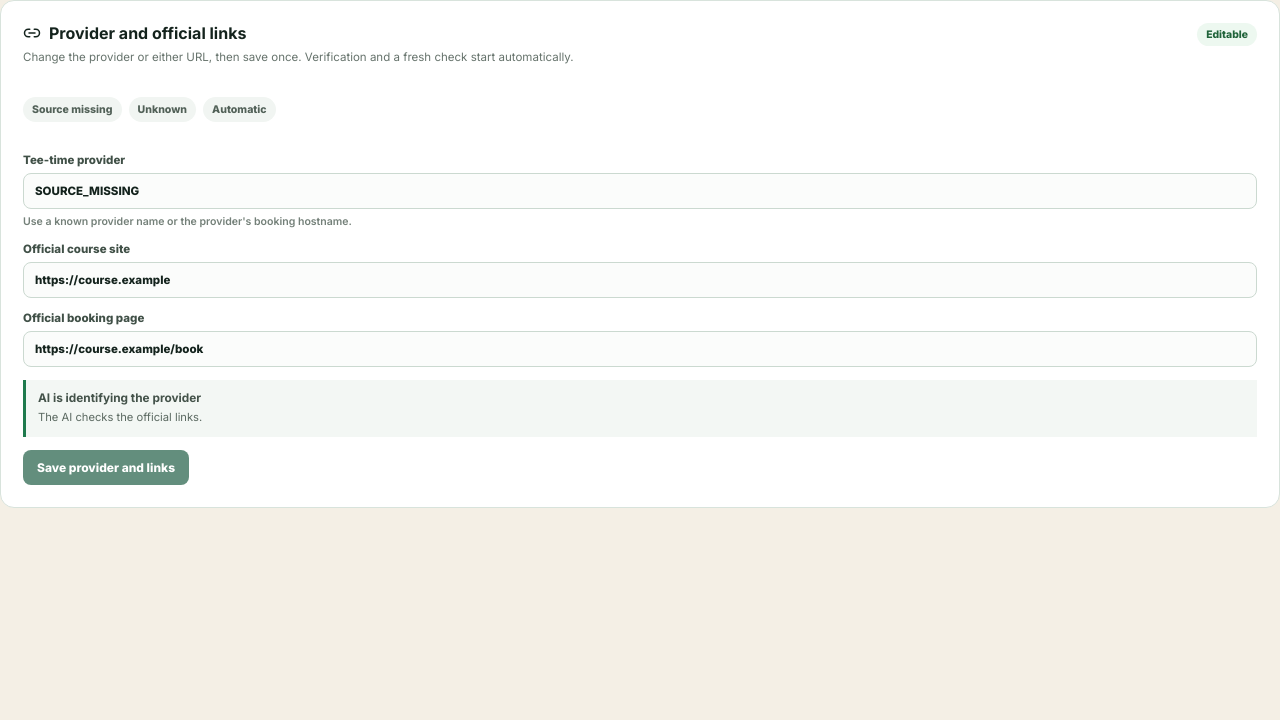
Test: operator course controls › keeps the provider editable and enables verification when it changes
The width and height of the screenshot is (1280, 720).
Replace the text in the field labelled "Tee-time provider" with "FOREUP" at (640, 191), box [23, 173, 1257, 209]
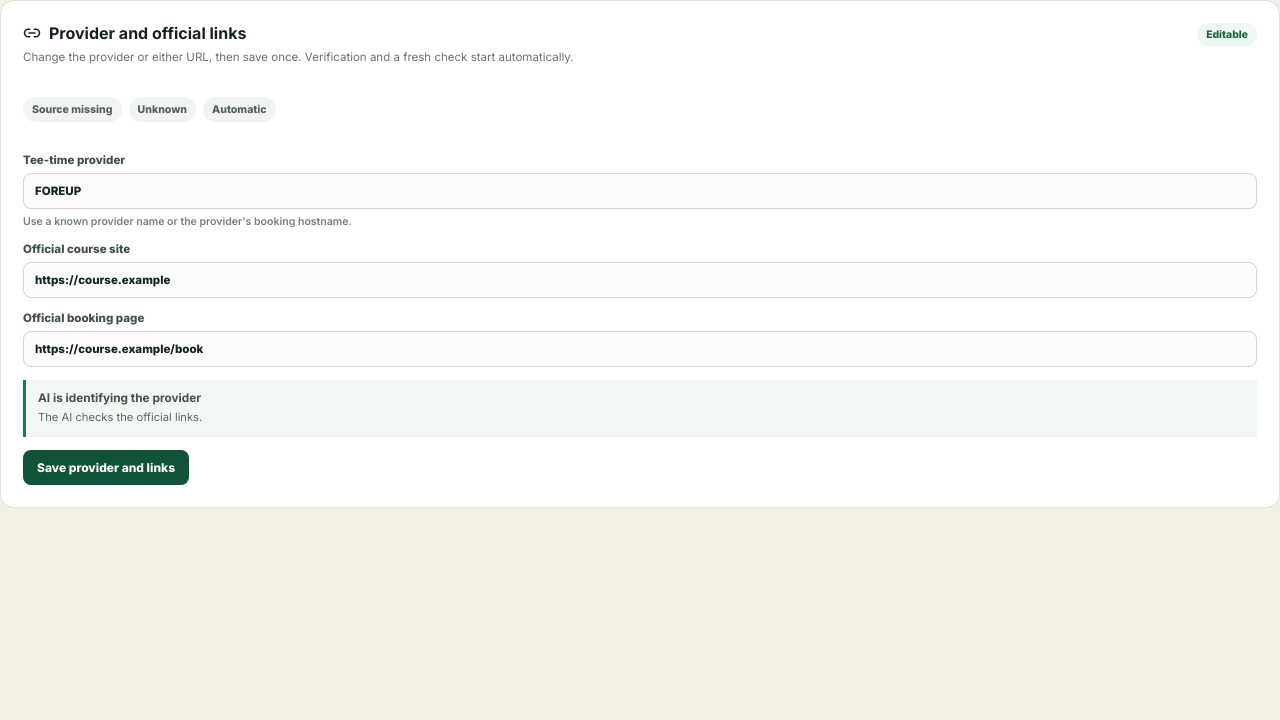
Expected: the button "Save provider and links" is enabled, [23, 450, 189, 485]
